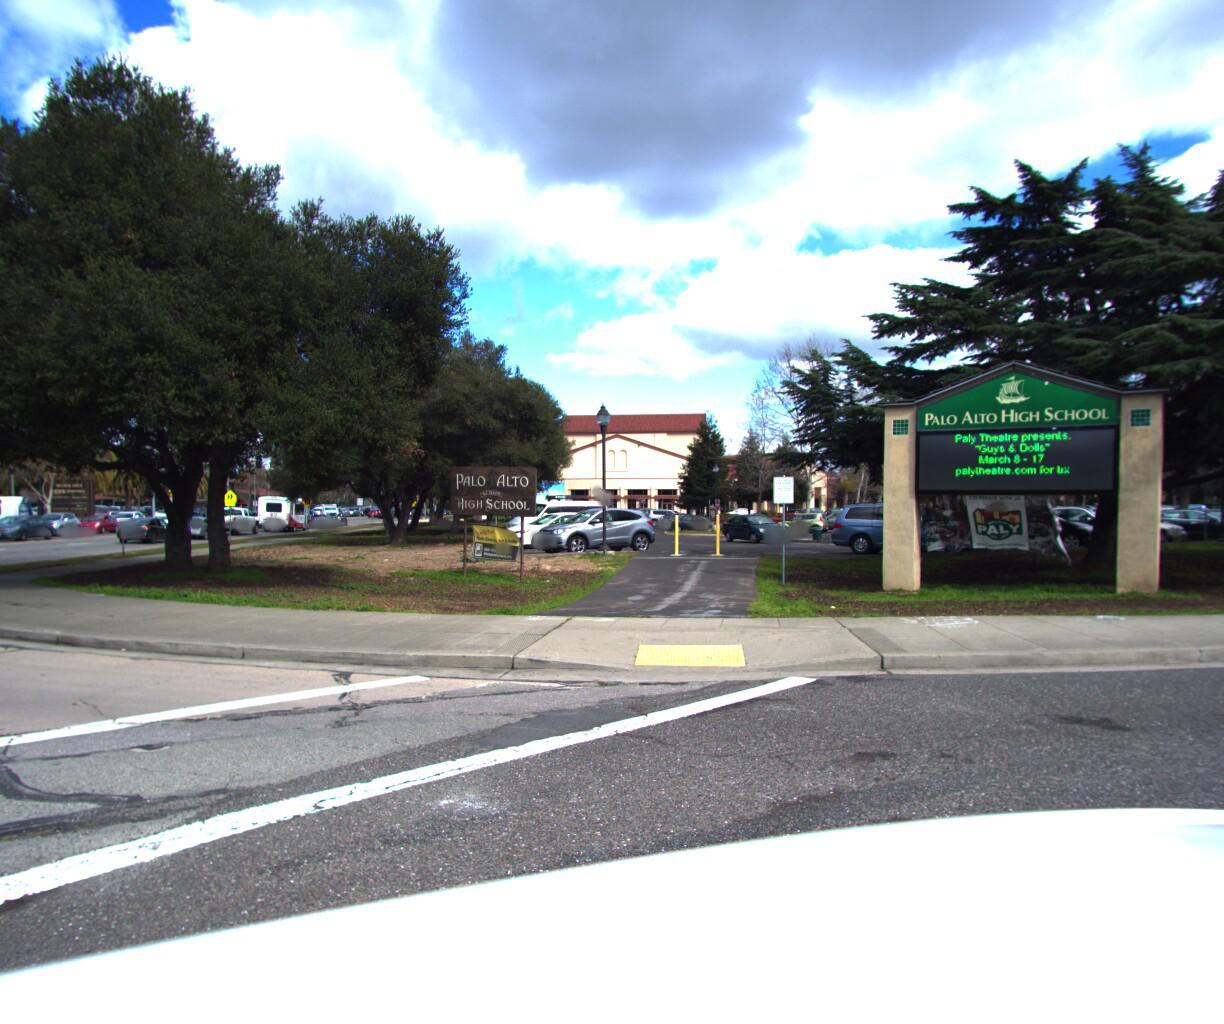bus: (258, 497, 310, 535)
car: (116, 521, 181, 549), (0, 518, 61, 547), (72, 516, 130, 544), (206, 511, 263, 540), (27, 515, 87, 540), (174, 520, 228, 546), (0, 497, 39, 534), (106, 513, 157, 538), (314, 516, 339, 531)
